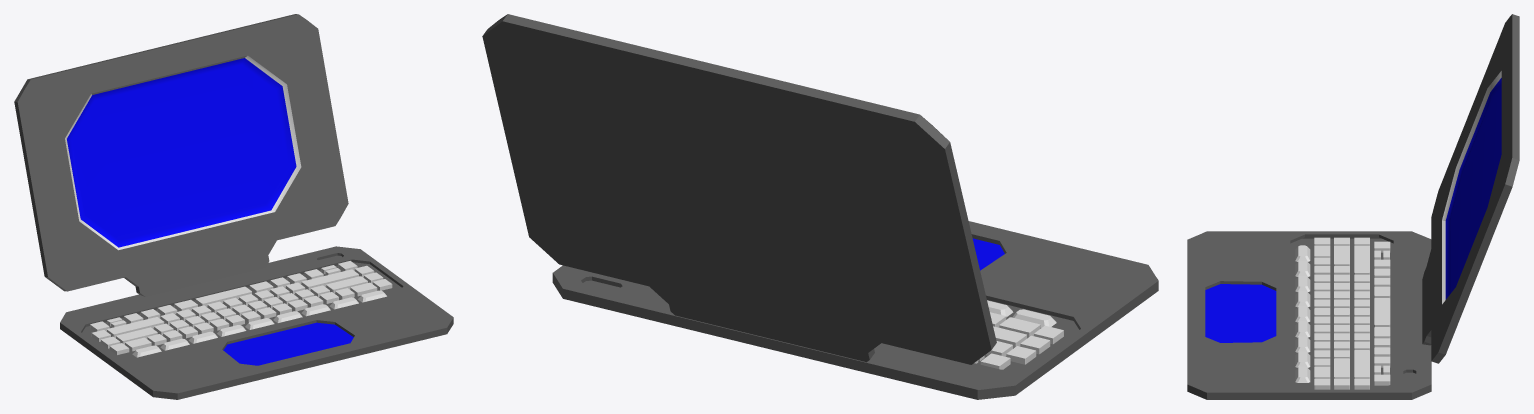
The model's file is laptop.glb.
The picture shows the model from 3 angles, left to right: view 1: azimuth 30°, elevation 25°; view 2: azimuth 150°, elevation 25°; view 3: azimuth 270°, elevation 25°; orthographic projection. The views are drawn at different scales.
Parts seen in each view (by area): view 1: laptop; view 2: laptop; view 3: laptop.
Part boxes in pixels (left/top/right/bottom): laptop: left=14, top=14, right=453, bottom=399; laptop: left=482, top=14, right=1158, bottom=399; laptop: left=1187, top=14, right=1519, bottom=399.
Size of the model in its own units: 0.5116 by 0.3449 by 0.4452.
